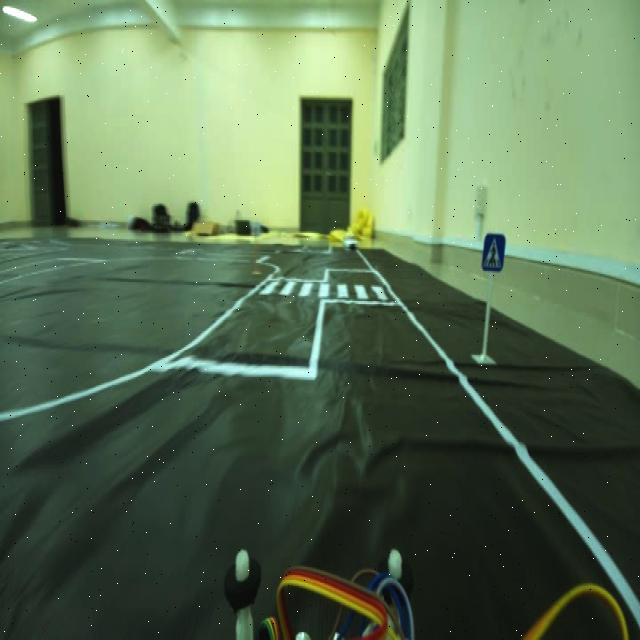crosswalk: (482, 220, 508, 284)
